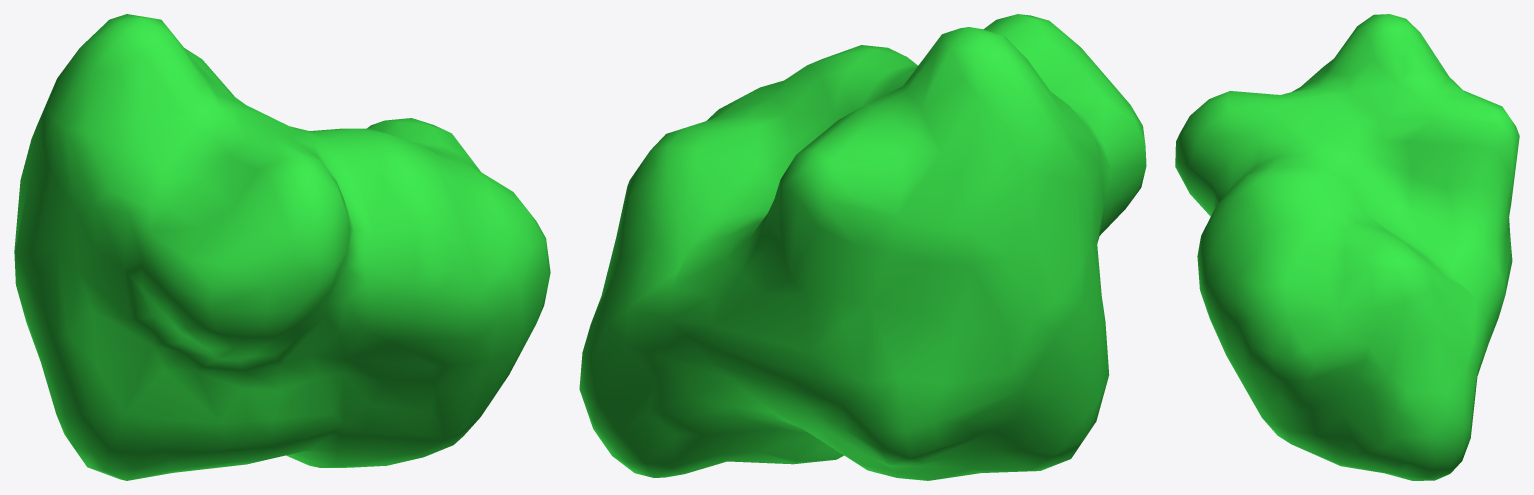
Rendered from Cyt_3dcg.fbx.
3 renders of one model, left to right at view 1: azimuth 30°, elevation 25°; view 2: azimuth 150°, elevation 25°; view 3: azimuth 270°, elevation 25°, orthographic. The views are drawn at different scales.
Visible parts, largest first — view 1: CoarseMS_3dcgT; view 2: CoarseMS_3dcgT; view 3: CoarseMS_3dcgT.
Part boxes in pixels (bbox=[...]): CoarseMS_3dcgT: bbox=[14, 14, 550, 480]; CoarseMS_3dcgT: bbox=[579, 14, 1146, 480]; CoarseMS_3dcgT: bbox=[1175, 14, 1519, 480].
Bounding box in the file's own units: 51.73 × 51.59 × 44.92.
